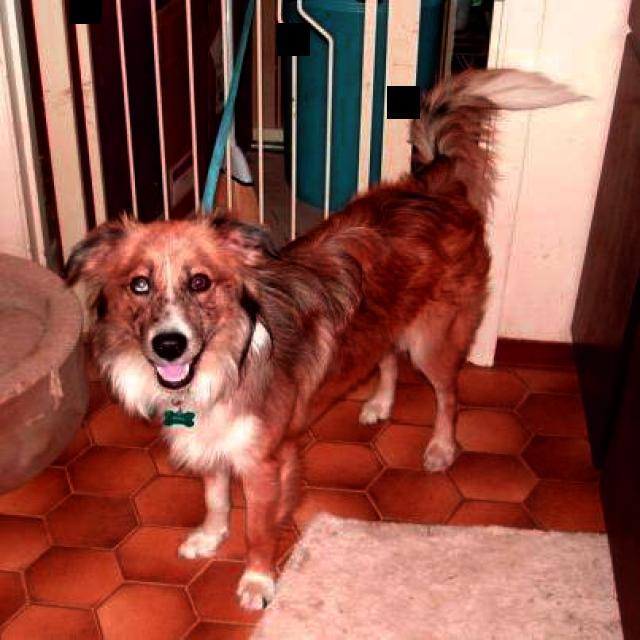adult_dog: (56, 69, 594, 614)
